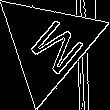M_SW: (16, 9, 82, 79)
